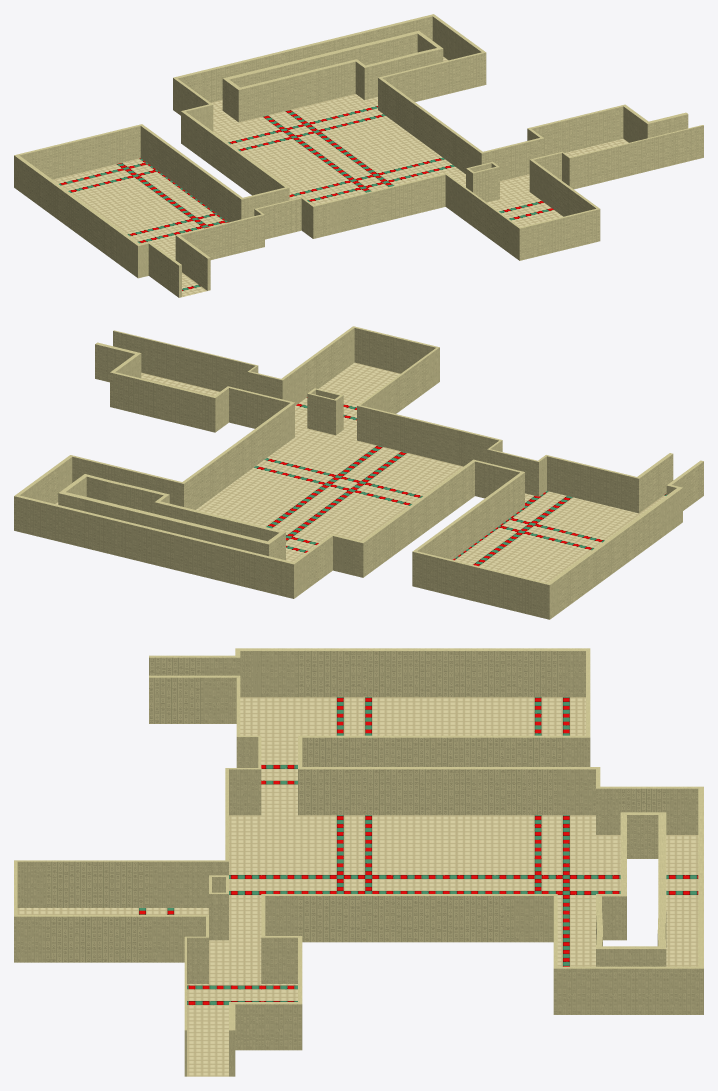
Rendered from Level0.fbx.
3 views of the same model, one above another, from view 1: azimuth 30°, elevation 25°; view 2: azimuth 150°, elevation 25°; view 3: azimuth 270°, elevation 25° (orthographic). The views are drawn at different scales.
Visible parts, largest first — view 1: Walls, Floor; view 2: Walls, Floor; view 3: Walls, Floor.
Part boxes in pixels (x1,y1,x2,y2): Walls: (14, 14, 703, 297); Floor: (53, 57, 628, 297); Walls: (14, 326, 703, 619); Floor: (55, 362, 666, 582); Walls: (14, 648, 703, 1076); Floor: (17, 697, 698, 1076).
Size of the model in its own units: 28.75 by 1.62 by 21.94.
2 materials, 2 textured.
